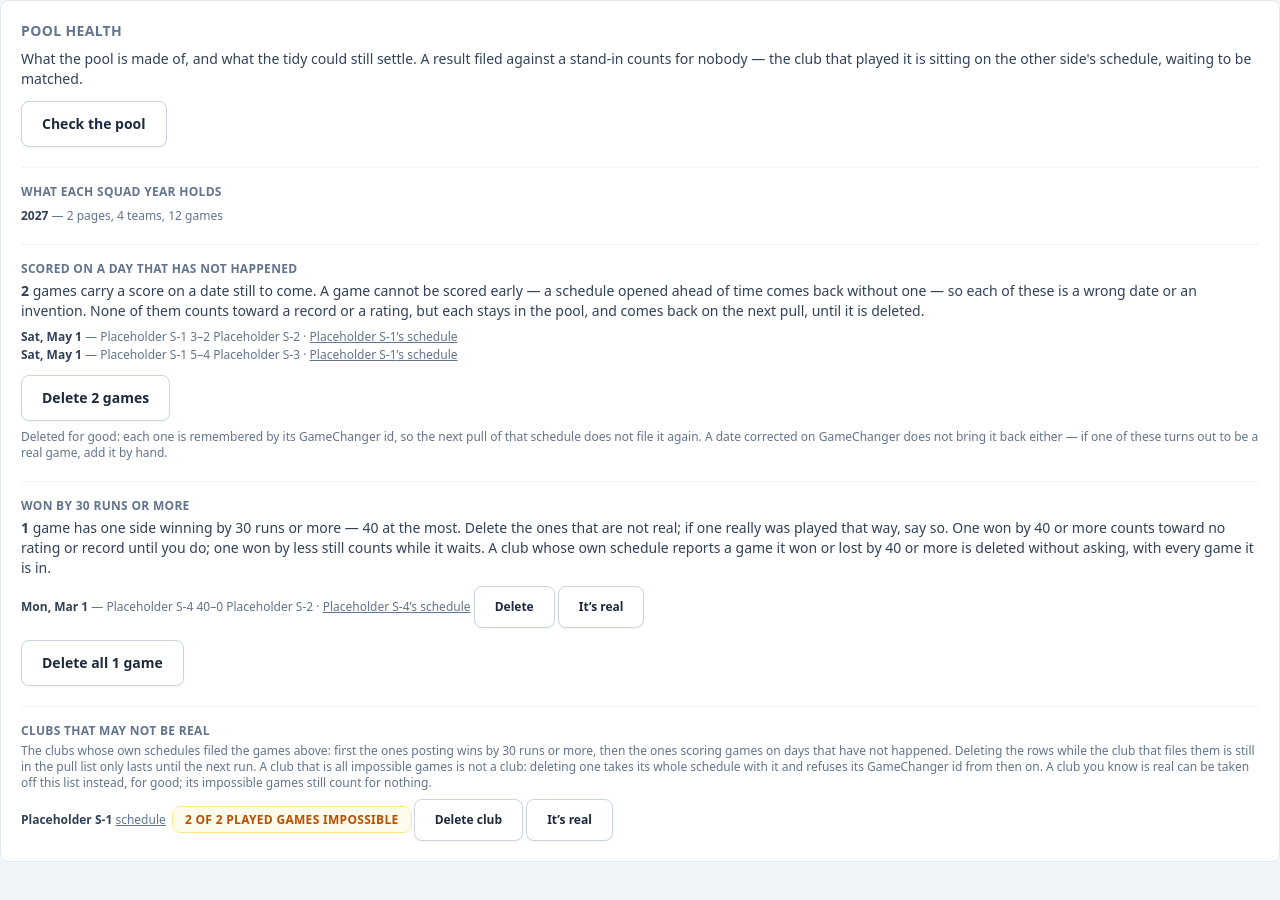
Pool health's buttons, sent as edits › takes a club deleted off its list at once, before the summary is asked for again
This screenshot has width=1280, height=900.
Click the button "Delete club": x=468, y=820 [414,799,523,841]
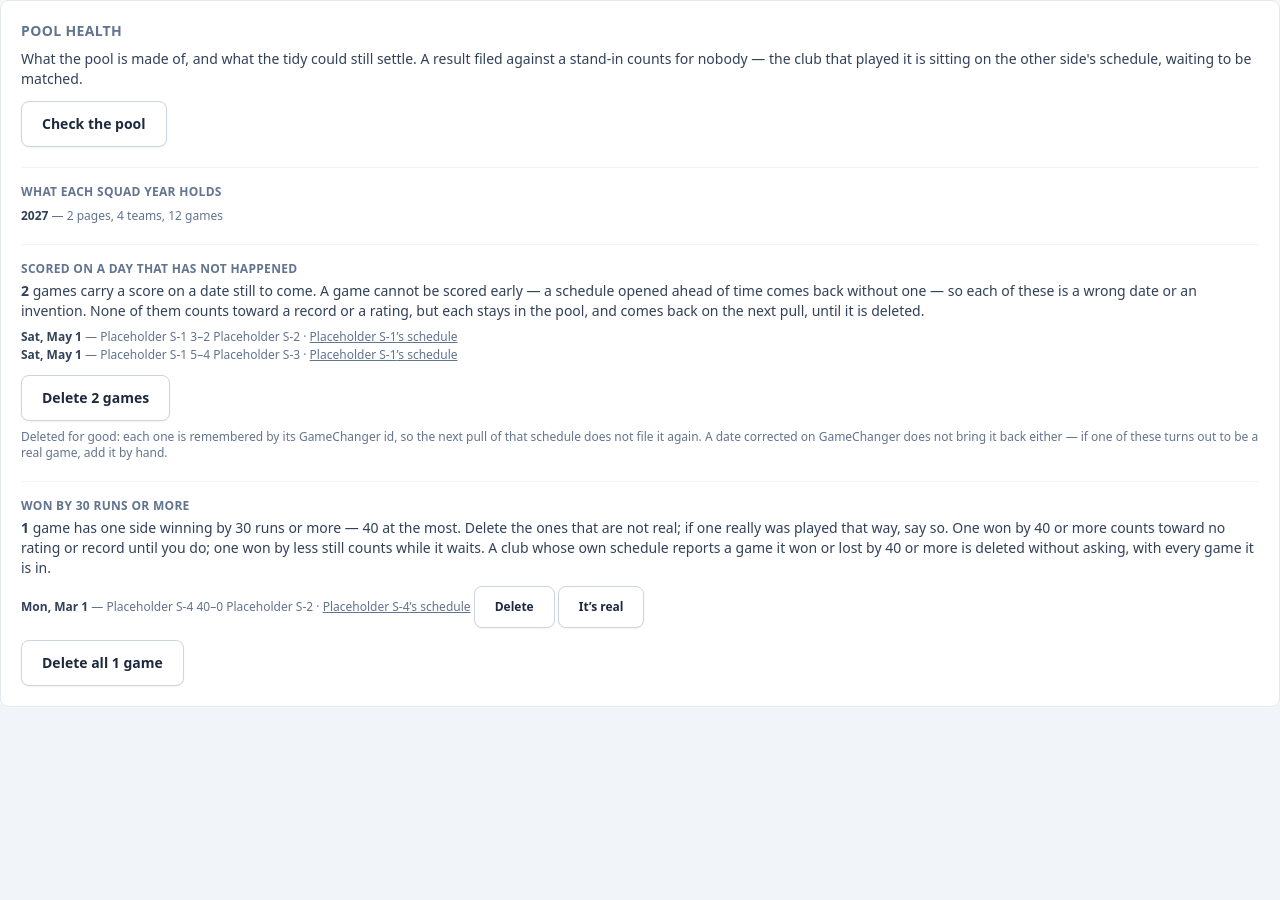
Expected: the button "Delete club" is gone
